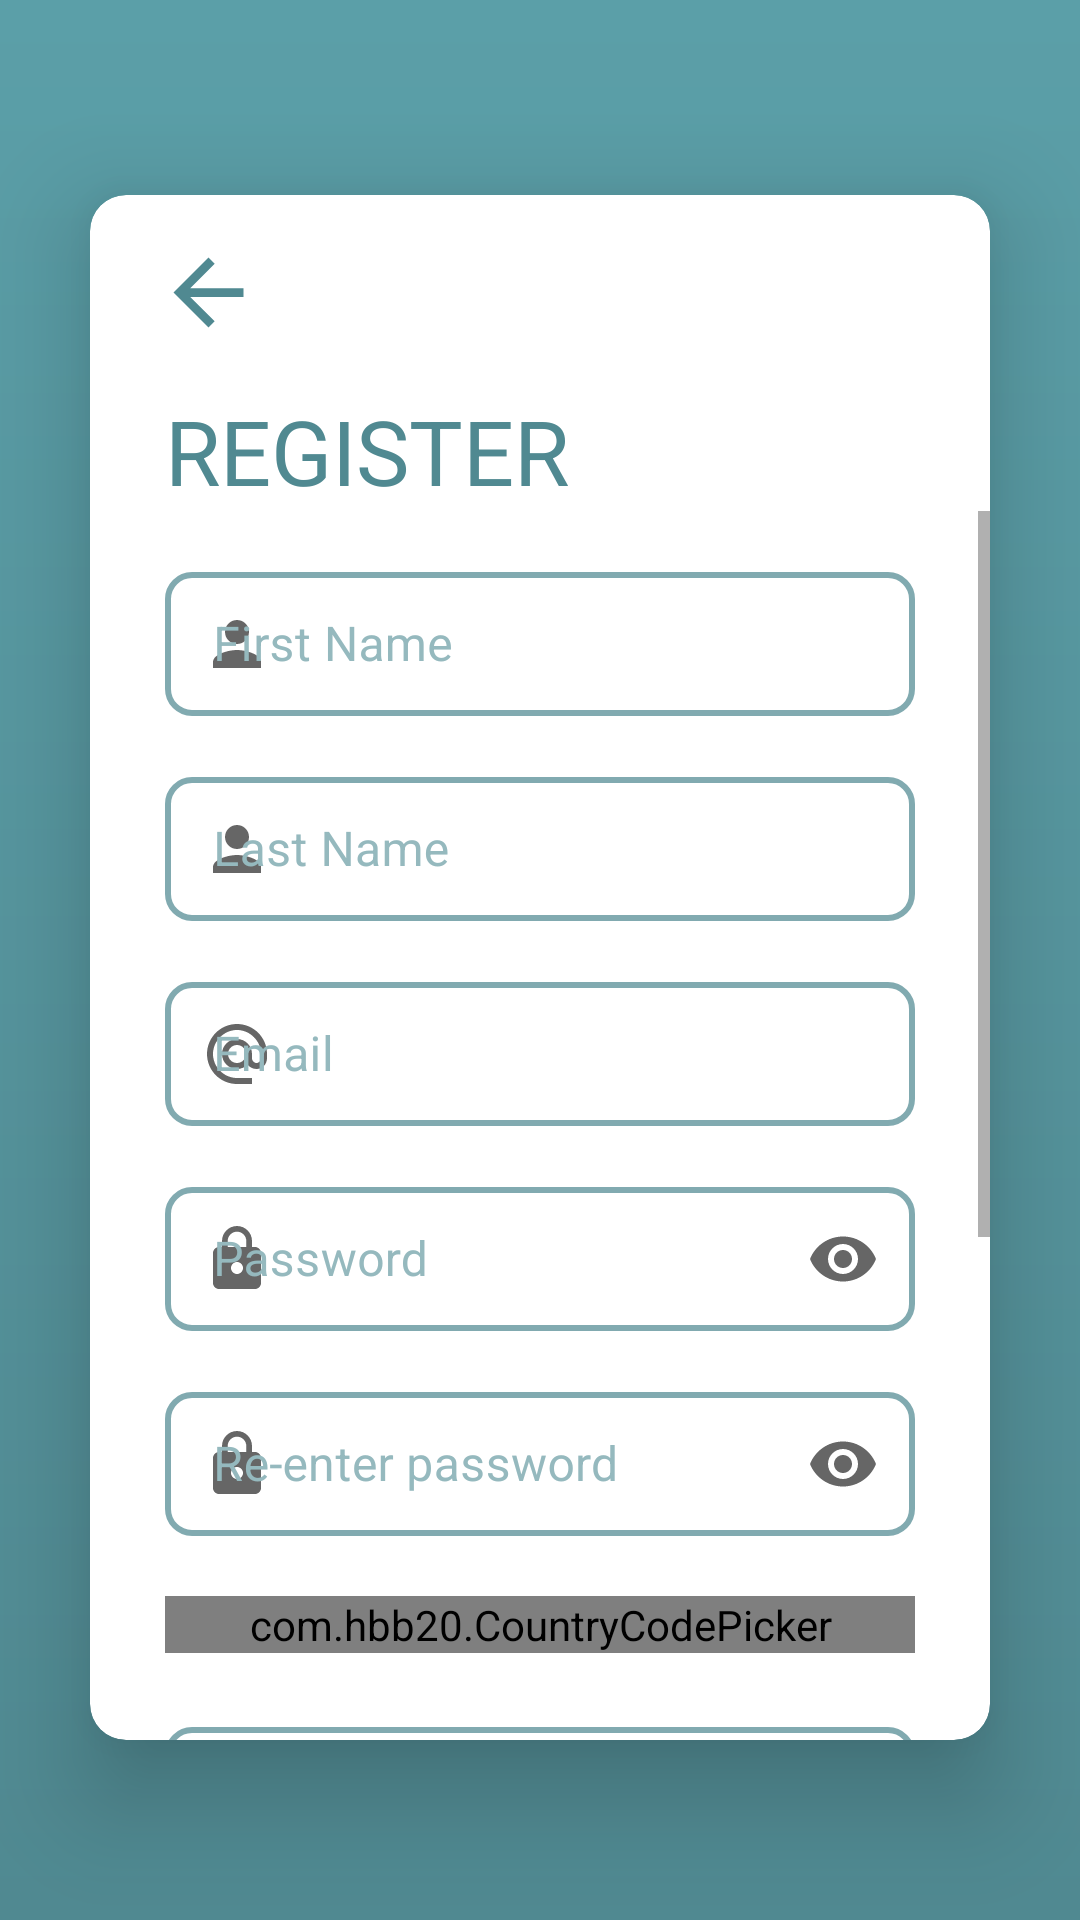

Screen size 1080x1920. Icon name, then its center in pixels as (x=x, y=y):
back: (x=208, y=292)
